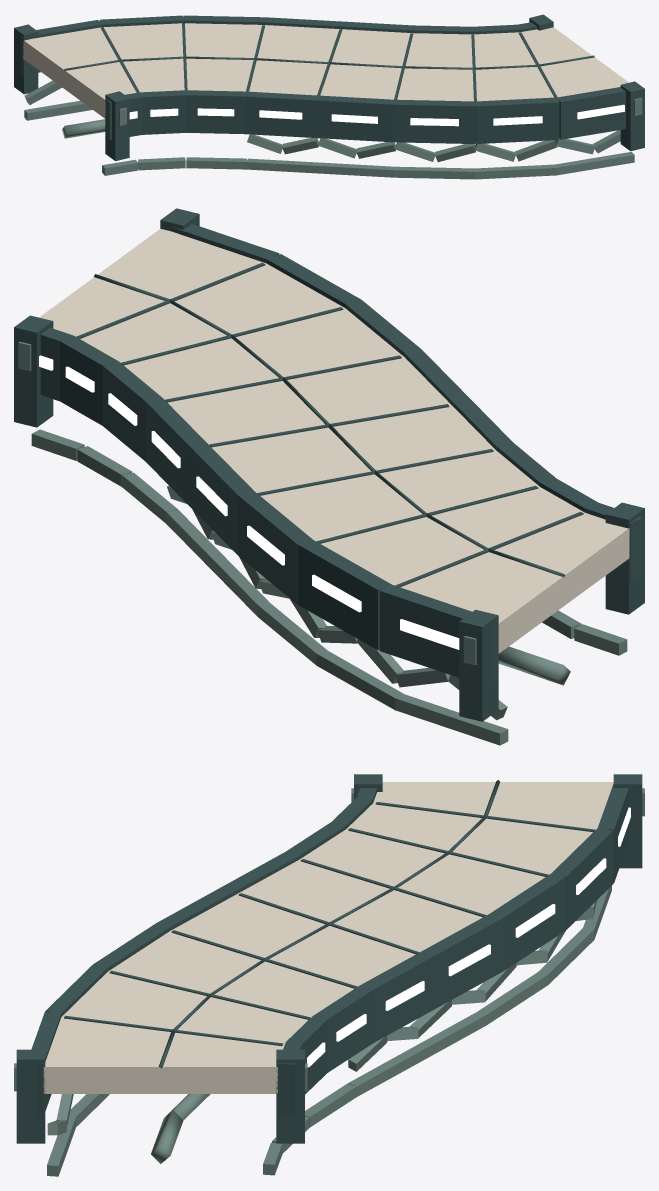
File: Sbend_R4_lab.glb
3 views of the same model, one above another, from view 1: azimuth 30°, elevation 25°; view 2: azimuth 150°, elevation 25°; view 3: azimuth 270°, elevation 25° (orthographic). The views are drawn at different scales.
Visible parts, largest first — view 1: Sbend_R4; view 2: Sbend_R4; view 3: Sbend_R4.
Part boxes in pixels (x1,y1,x2,y2): Sbend_R4: (14, 14, 644, 179); Sbend_R4: (14, 208, 644, 745); Sbend_R4: (14, 774, 644, 1176).
Size of the model in its own units: 8.08 by 1.52 by 7.48.
